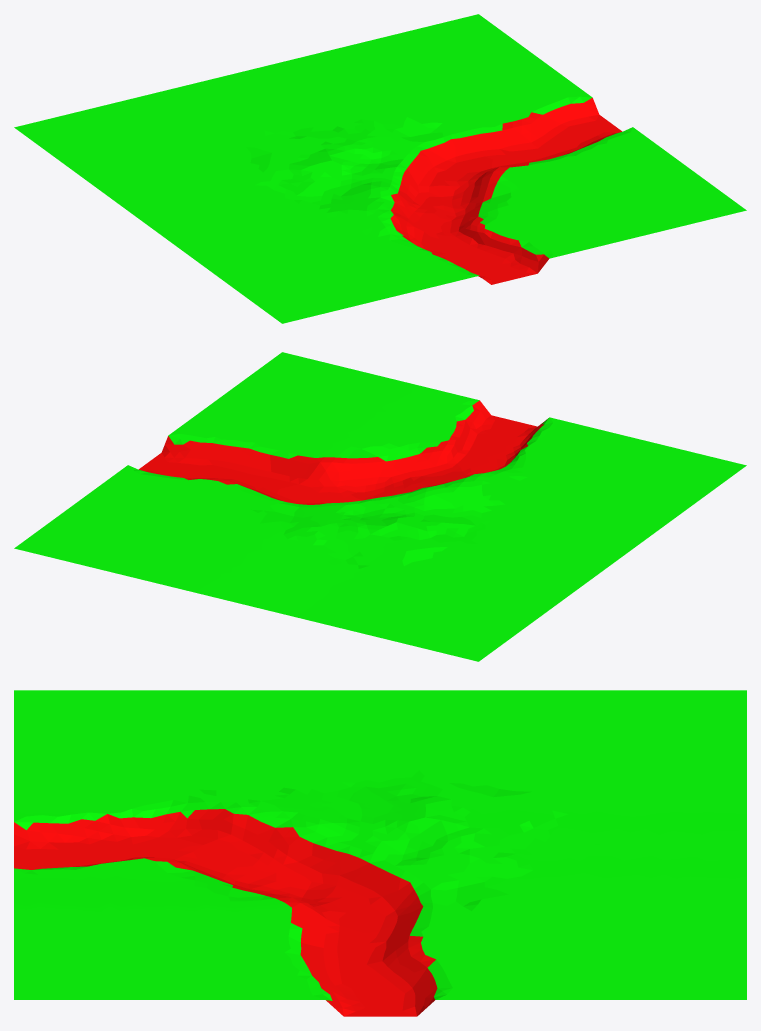
The model's file is RiverAngle04.fbx.
3 views of the same model, one above another, from view 1: azimuth 30°, elevation 25°; view 2: azimuth 150°, elevation 25°; view 3: azimuth 270°, elevation 25° (orthographic). The views are drawn at different scales.
Visible parts, largest first — view 1: RiverAngle04; view 2: RiverAngle04; view 3: RiverAngle04.
Boxes of the visible parts, x1,y1,x2,y2 form: RiverAngle04: (14,14,746,323); RiverAngle04: (14,352,746,661); RiverAngle04: (14,690,746,1016).
Size of the model in its own units: 5009 by 223 by 5009.
